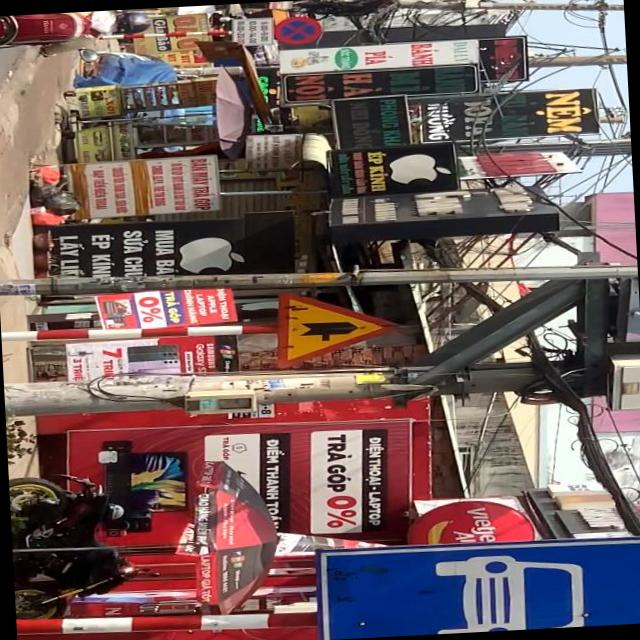P-130: (274, 14, 320, 46)
W-207b: (274, 284, 396, 368)
